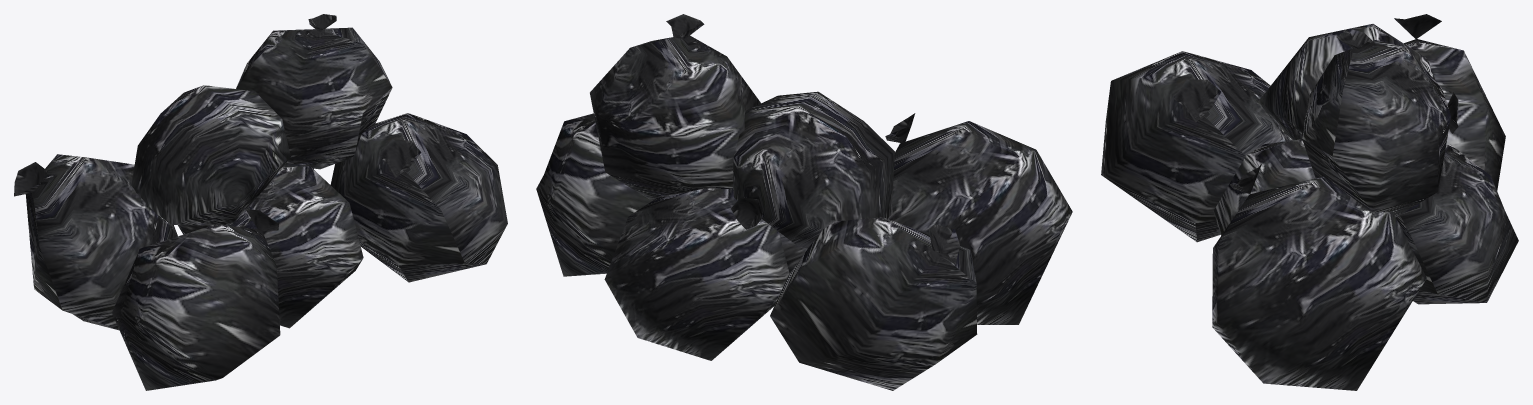
Rendered from Musor1.FBX.
The picture shows the model from 3 angles, left to right: view 1: azimuth 30°, elevation 25°; view 2: azimuth 150°, elevation 25°; view 3: azimuth 270°, elevation 25°; orthographic projection. The views are drawn at different scales.
Parts seen in each view (by area): view 1: Musor; view 2: Musor; view 3: Musor.
Boxes of the visible parts, bbox=[...] form: Musor: bbox=[14, 14, 507, 390]; Musor: bbox=[536, 14, 1072, 390]; Musor: bbox=[1101, 14, 1518, 390].
Bounding box in the file's own units: 245 × 146 × 182.
